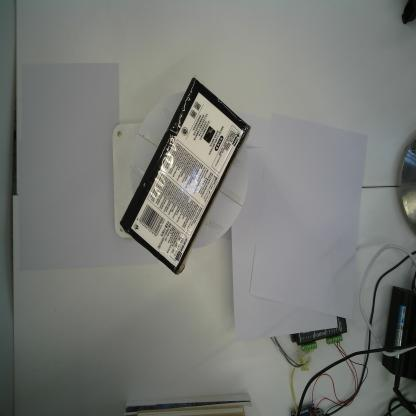Tissue: (118, 76, 251, 277)
